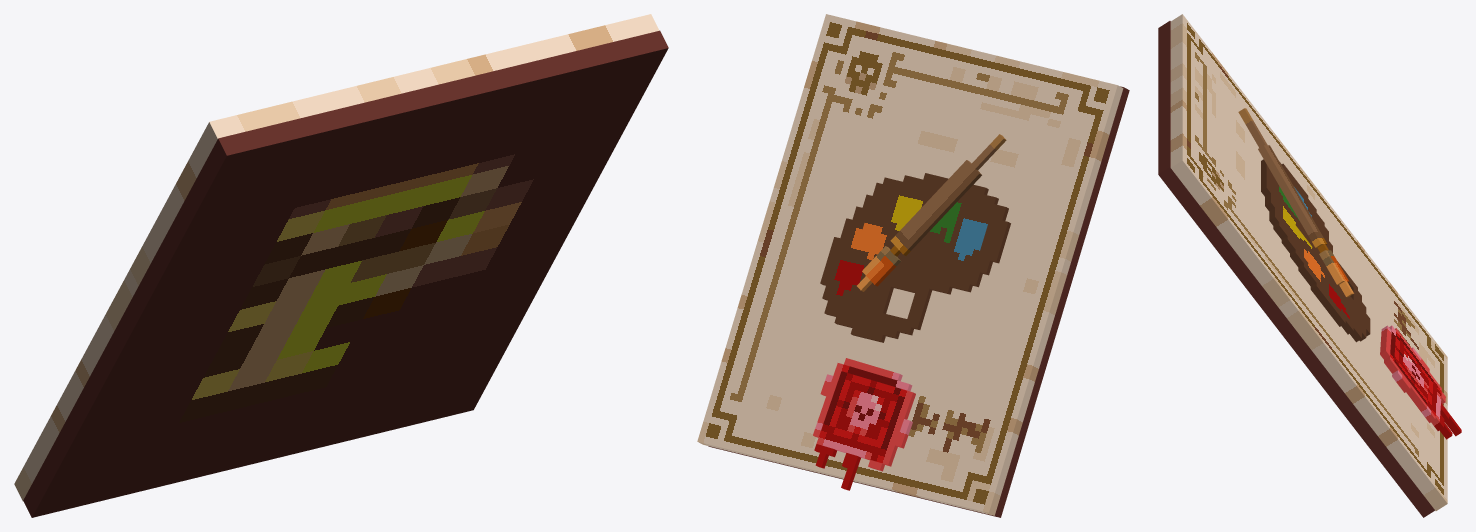
3 renders of one model, left to right at view 1: azimuth 30°, elevation 25°; view 2: azimuth 150°, elevation 25°; view 3: azimuth 270°, elevation 25°, orthographic. The views are drawn at different scales.
Visible parts, largest first — view 1: IOU_rear-Local, IOU_front-Local; view 2: IOU_front-Local, art-Local, seal$$(1)-Local, brush-Local, IOU_rear-Local; view 3: IOU_front-Local, IOU_rear-Local, art-Local, seal$$(1)-Local, brush-Local.
Boxes of the visible parts, box(x1,y1,x2,y2) form: IOU_rear-Local: box(23, 30, 668, 517); IOU_front-Local: box(14, 14, 659, 500); IOU_front-Local: box(697, 14, 1123, 515); art-Local: box(820, 173, 1010, 342); seal$$(1)-Local: box(813, 358, 915, 490); brush-Local: box(857, 134, 1006, 291); IOU_rear-Local: box(708, 86, 1129, 517); IOU_front-Local: box(1170, 14, 1447, 510); IOU_rear-Local: box(1158, 21, 1434, 517); art-Local: box(1261, 159, 1370, 342); seal$$(1)-Local: box(1380, 325, 1461, 439); brush-Local: box(1238, 108, 1353, 297).
Size of the model in its own units: 48.03 by 54.59 by 42.
Materials: 5 (5 with a texture image).
